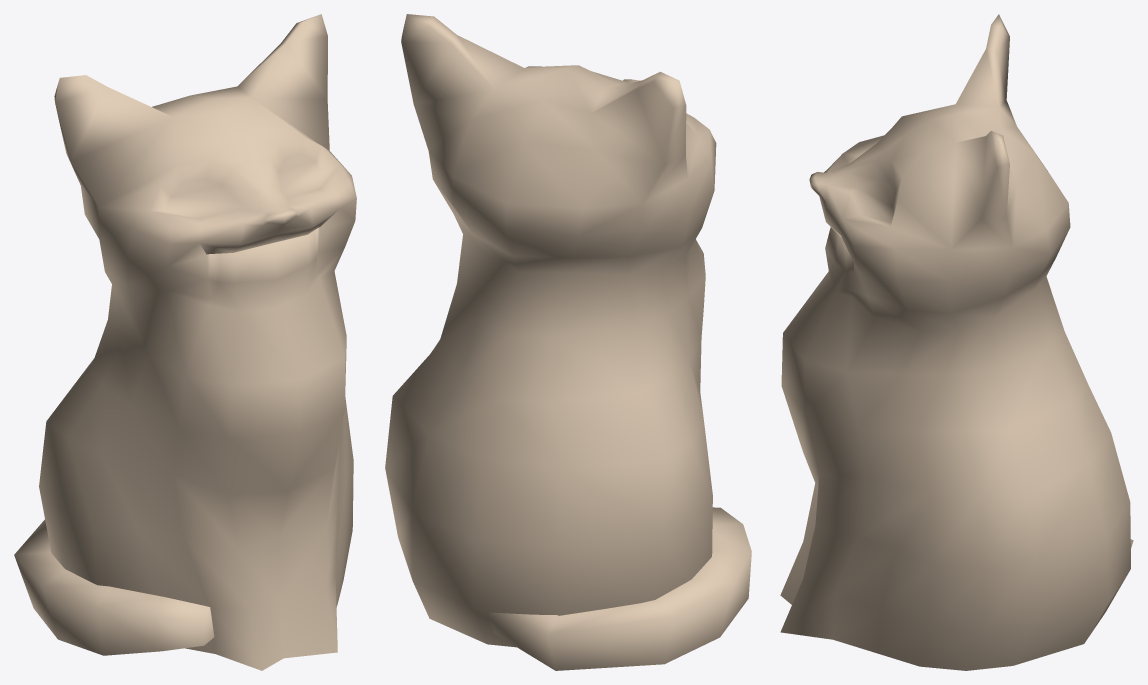
Rendered from cat.glb.
The picture shows the model from 3 angles, left to right: view 1: azimuth 30°, elevation 25°; view 2: azimuth 150°, elevation 25°; view 3: azimuth 270°, elevation 25°; orthographic projection. The views are drawn at different scales.
Visible parts, largest first — view 1: cat; view 2: cat; view 3: cat.
Boxes of the visible parts, x1=… form: cat: x1=14, y1=14, x2=356, y2=670; cat: x1=385, y1=14, x2=751, y2=670; cat: x1=780, y1=14, x2=1133, y2=670.
Bounding box in the file's own units: 7.58 × 13 × 7.64.
